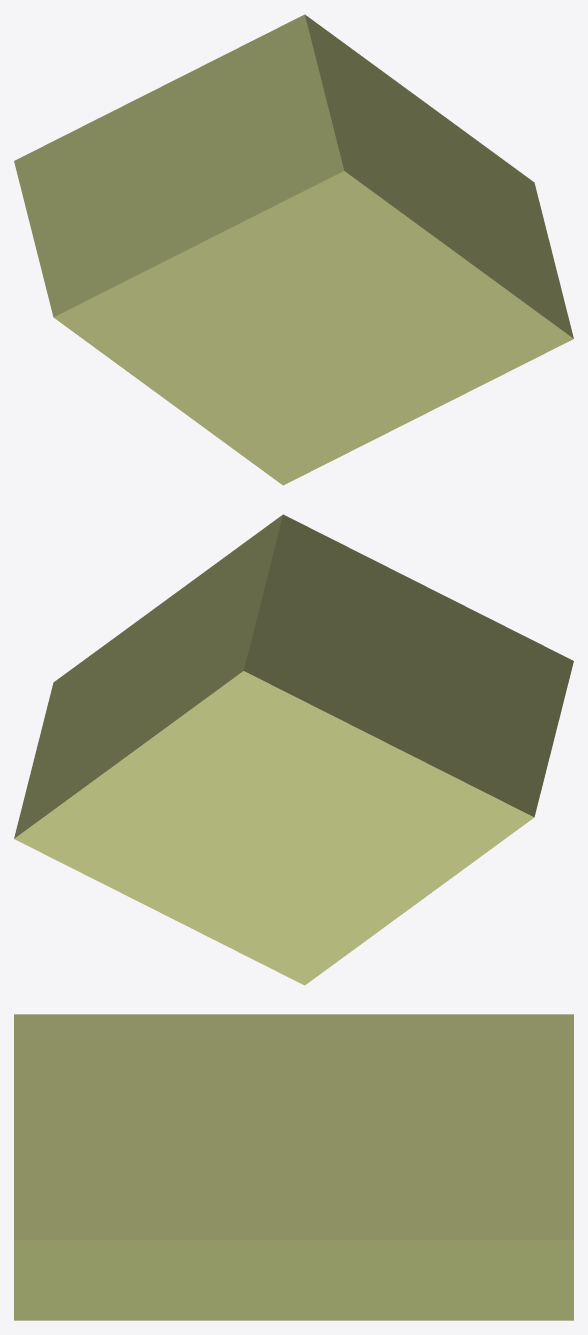
3 renders of one model, top to bottom at view 1: azimuth 30°, elevation 25°; view 2: azimuth 150°, elevation 25°; view 3: azimuth 270°, elevation 25°, orthographic. The views are drawn at different scales.
Visible parts, largest first — view 1: 0_1_2_0_0_2_2_0_2_1_3; view 2: 0_1_2_0_0_2_2_0_2_1_3; view 3: 0_1_2_0_0_2_2_0_2_1_3.
Part boxes in pixels (x1,y1,x2,y2): 0_1_2_0_0_2_2_0_2_1_3: [14, 14, 573, 485]; 0_1_2_0_0_2_2_0_2_1_3: [14, 514, 573, 985]; 0_1_2_0_0_2_2_0_2_1_3: [14, 1014, 573, 1320].
Size of the model in its own units: 4.98 by 3.48 by 6.
